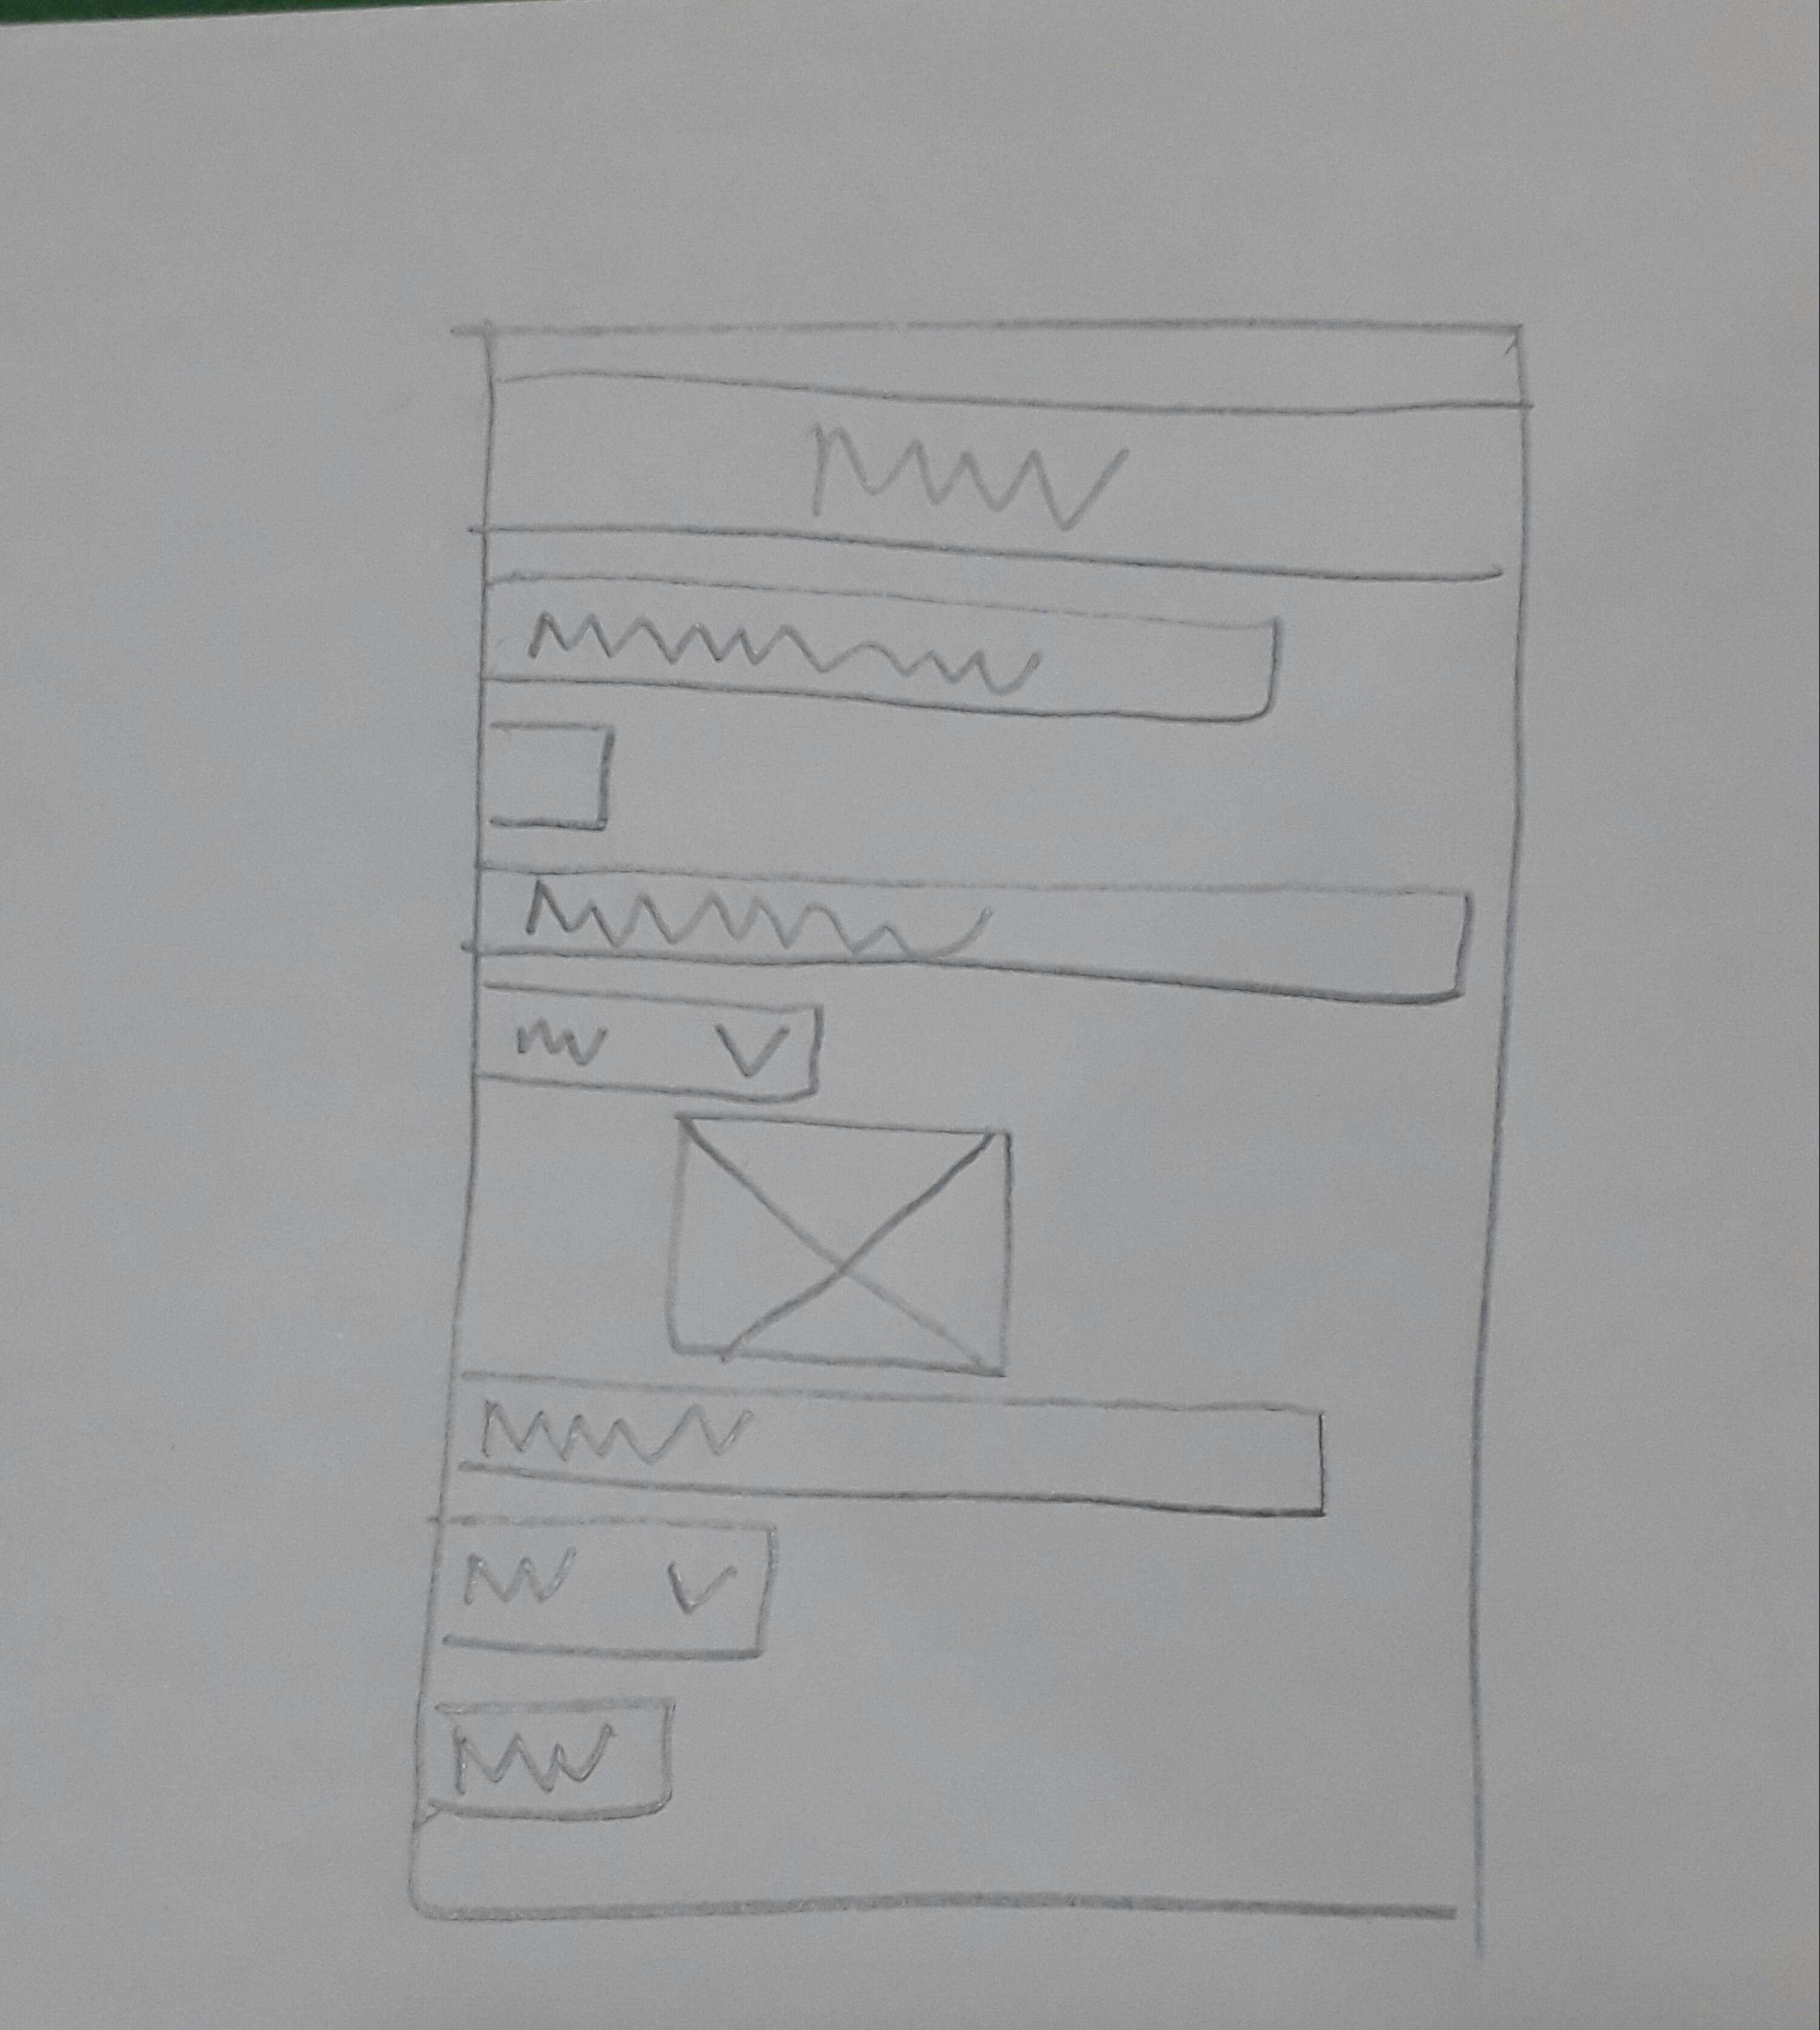Button: (415, 1705, 682, 1823)
CheckBox: (478, 718, 615, 838)
Image: (669, 1110, 1015, 1377)
Label: (799, 421, 1137, 543)
ListPicker: (437, 1517, 778, 1659), (481, 982, 819, 1110)
Screen: (408, 323, 1527, 1925)
TextBox: (481, 862, 1474, 1003), (455, 1373, 1328, 1517), (481, 574, 1282, 723)
